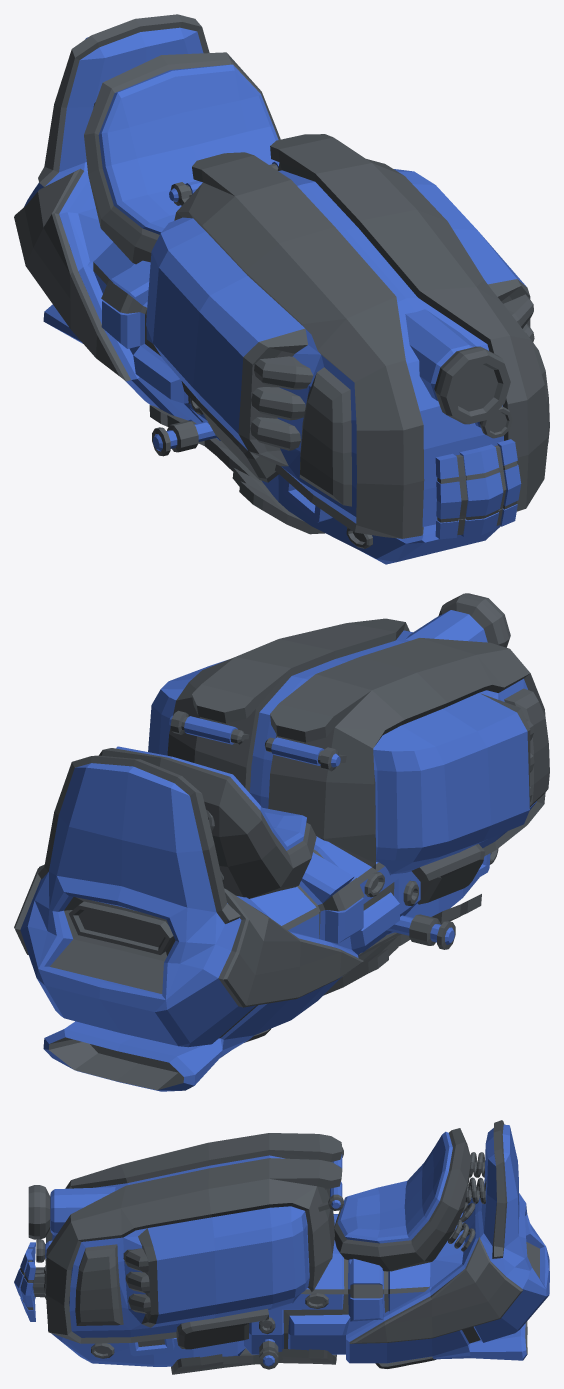
The model's file is Personal_Vehicle_01_Blue.fbx.
3 views of the same model, one above another, from view 1: azimuth 30°, elevation 25°; view 2: azimuth 150°, elevation 25°; view 3: azimuth 270°, elevation 25° (orthographic). The views are drawn at different scales.
Visible parts, largest first — view 1: Personal_Vehicle_01_Blue; view 2: Personal_Vehicle_01_Blue; view 3: Personal_Vehicle_01_Blue.
Boxes of the visible parts, x1,y1,x2,y2 form: Personal_Vehicle_01_Blue: (14,14,549,564); Personal_Vehicle_01_Blue: (14,593,549,1091); Personal_Vehicle_01_Blue: (14,1120,549,1374).
Size of the model in its own units: 141 by 148 by 319.
Materials: 2 (2 with a texture image).
